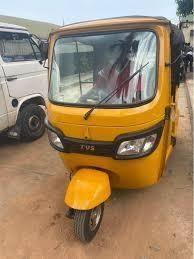keke: (44, 13, 190, 250)
